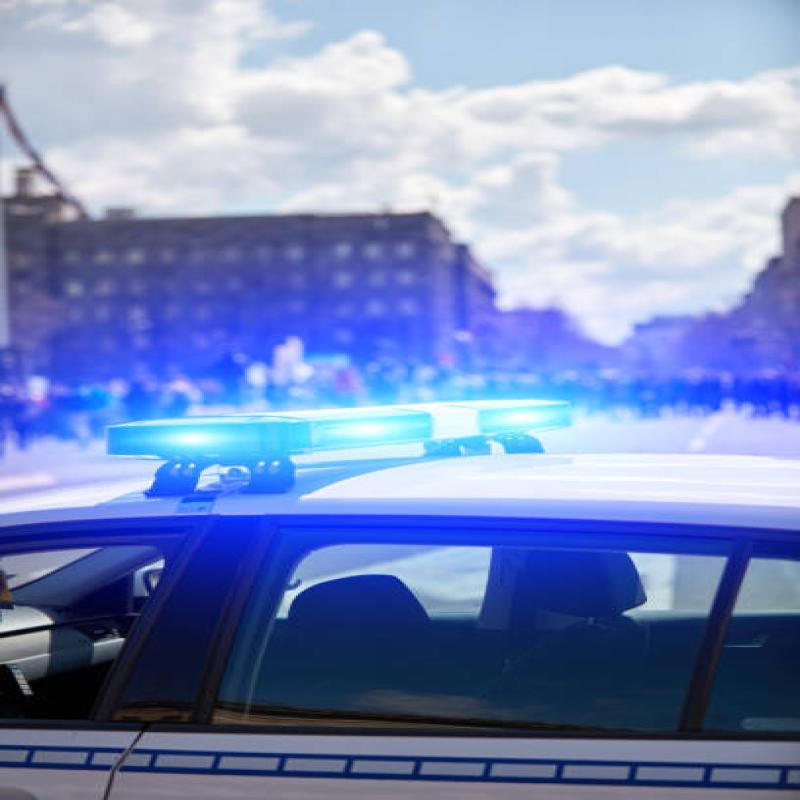AmbulanceSiren: (104, 376, 579, 484)
